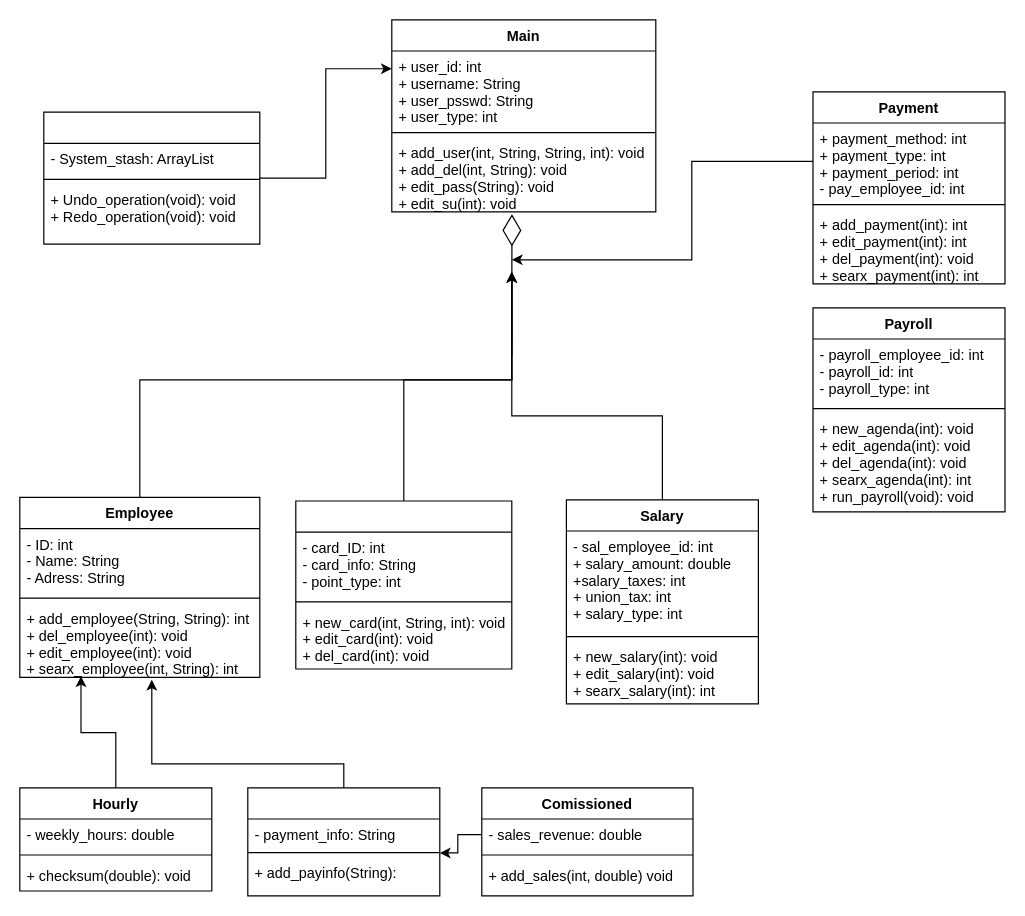
Some shapes in this 1025 by 916 pixel diagram are drawn without their labels. Here are the shapes that lost their labels. From the top down, the box of each, then its label:
(43, 111, 260, 244): System utilities
(295, 500, 512, 669): Working Point Card
(247, 787, 440, 896): Salaried
